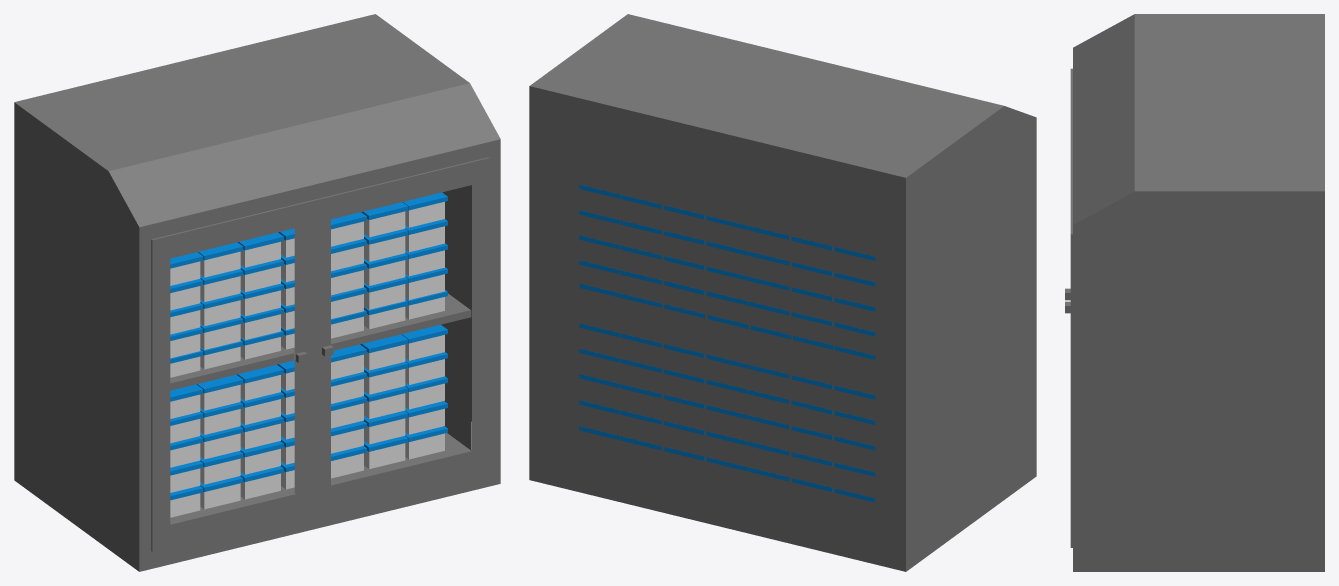
File: shelf_4.glb
3 views of the same model, side by side, from view 1: azimuth 30°, elevation 25°; view 2: azimuth 150°, elevation 25°; view 3: azimuth 270°, elevation 25° (orthographic). The views are drawn at different scales.
Parts seen in each view (by area): view 1: Cube; view 2: Cube; view 3: Cube.
Part boxes in pixels (<box>): Cube: <box>14,14,500,571</box>; Cube: <box>529,14,1036,571</box>; Cube: <box>1065,14,1324,571</box>.
Size of the model in its own units: 100 by 100 by 61.9.
